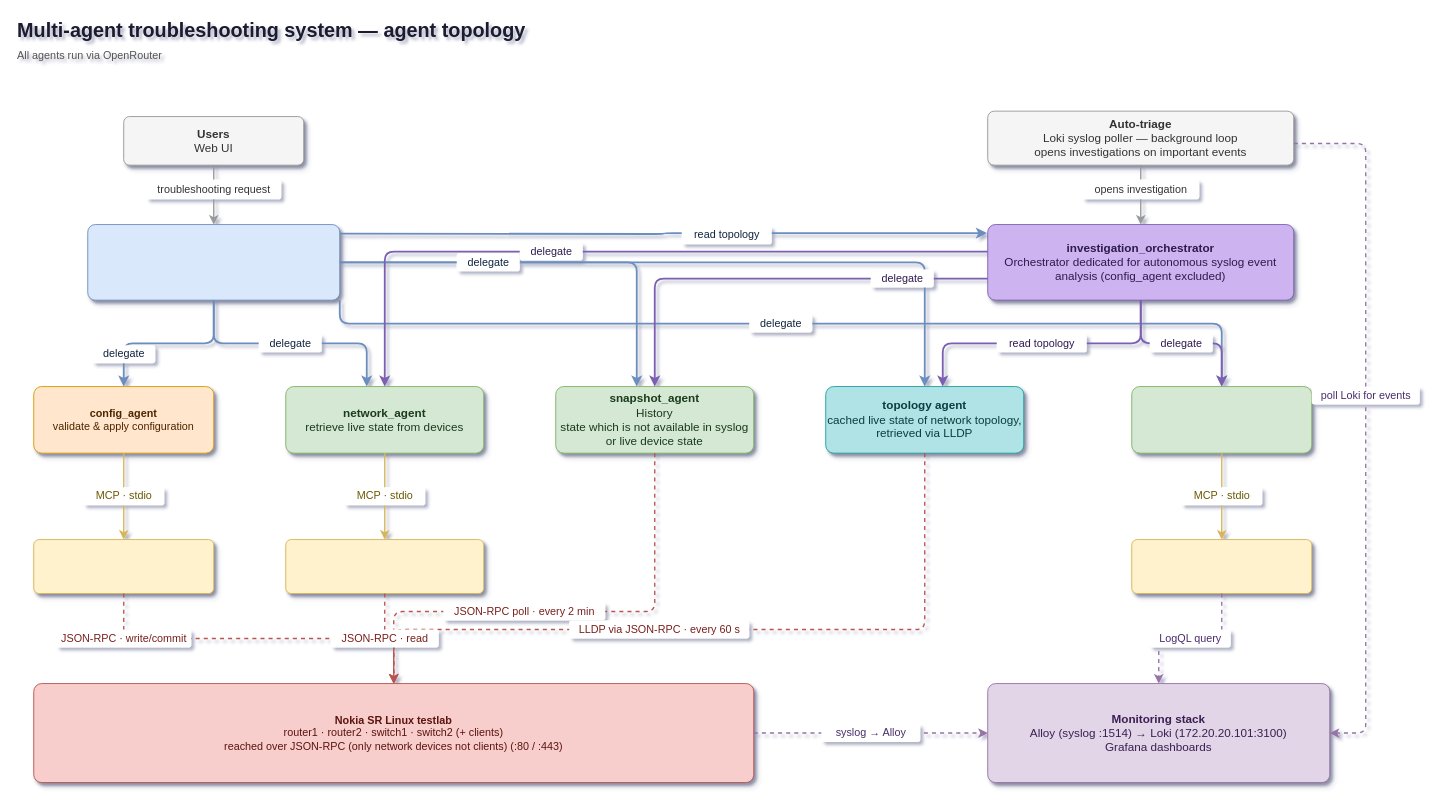
Some shapes in this 1440 by 810 pixel diagram are drawn without their labels. The centre of each missing label's shape, as x and y in pixels:
"config_mcp_server.py validate and apply configuration" goes at (x=124, y=567).
"mcp_server.py read commands against devices" goes at (x=385, y=567).
"orchestrator client_agent.py · user-facing delegates to sub-agents" goes at (x=214, y=263).
"syslog_agent syslog analysis query + interpret Loki logs" goes at (x=1222, y=420).
"syslog_mcp_server.py query_loki (LogQL)" goes at (x=1222, y=567).
